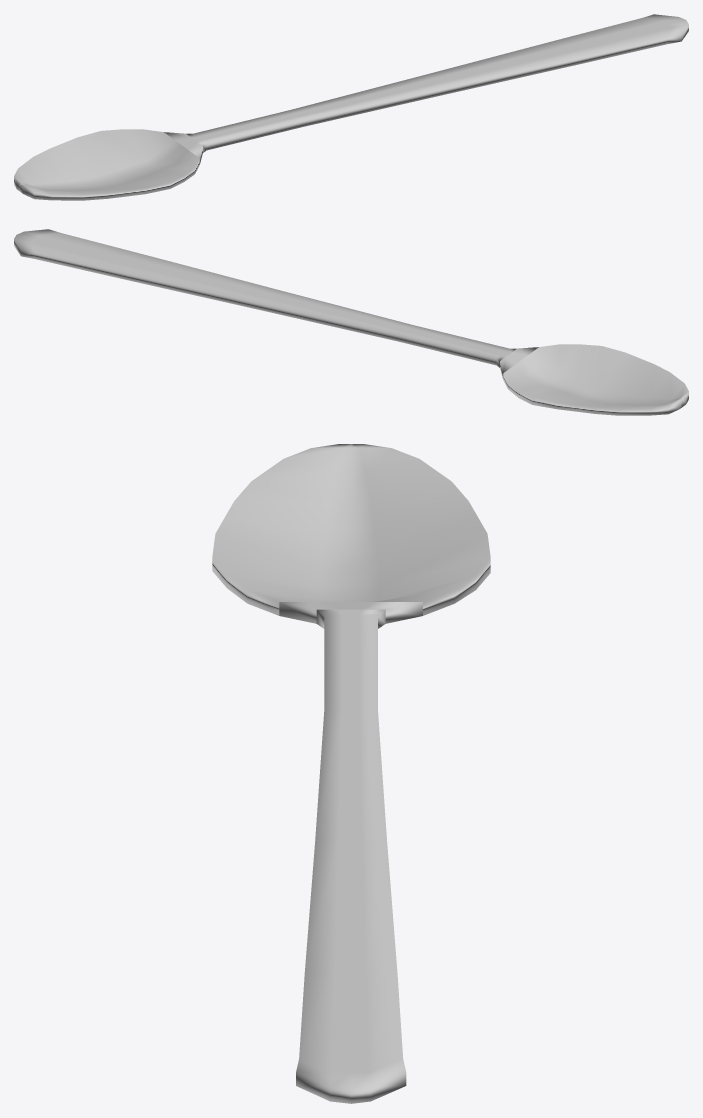
The model's file is Spoon Full Model.fbx.
The picture shows the model from 3 angles, top to bottom: view 1: azimuth 30°, elevation 25°; view 2: azimuth 150°, elevation 25°; view 3: azimuth 270°, elevation 25°; orthographic projection. The views are drawn at different scales.
Visible parts, largest first — view 1: pCube1; view 2: pCube1; view 3: pCube1.
Boxes of the visible parts, x1,y1,x2,y2 form: pCube1: (14,14,688,200); pCube1: (14,229,688,415); pCube1: (212,444,490,1103).
Size of the model in its own units: 19.81 by 0.6863 by 3.58.
